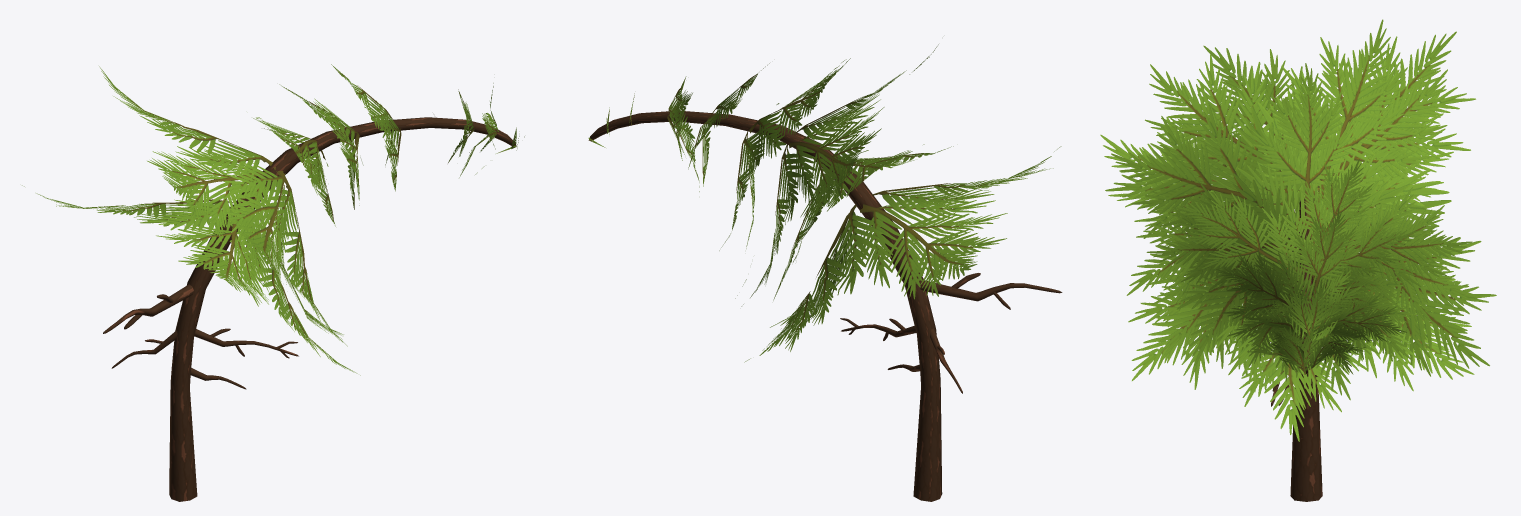
The model's file is pine-4.glb.
3 views of the same model, side by side, from view 1: azimuth 30°, elevation 25°; view 2: azimuth 150°, elevation 25°; view 3: azimuth 270°, elevation 25° (orthographic). The views are drawn at different scales.
Visible parts, largest first — view 1: PineTree_4; view 2: PineTree_4; view 3: PineTree_4.
Boxes of the visible parts, x1,y1,x2,y2 form: PineTree_4: (22, 64, 524, 501); PineTree_4: (588, 44, 1062, 501); PineTree_4: (1100, 19, 1496, 501).
Bounding box in the file's own units: 4.84 × 4.48 × 3.25.
2 materials, 2 textured.
